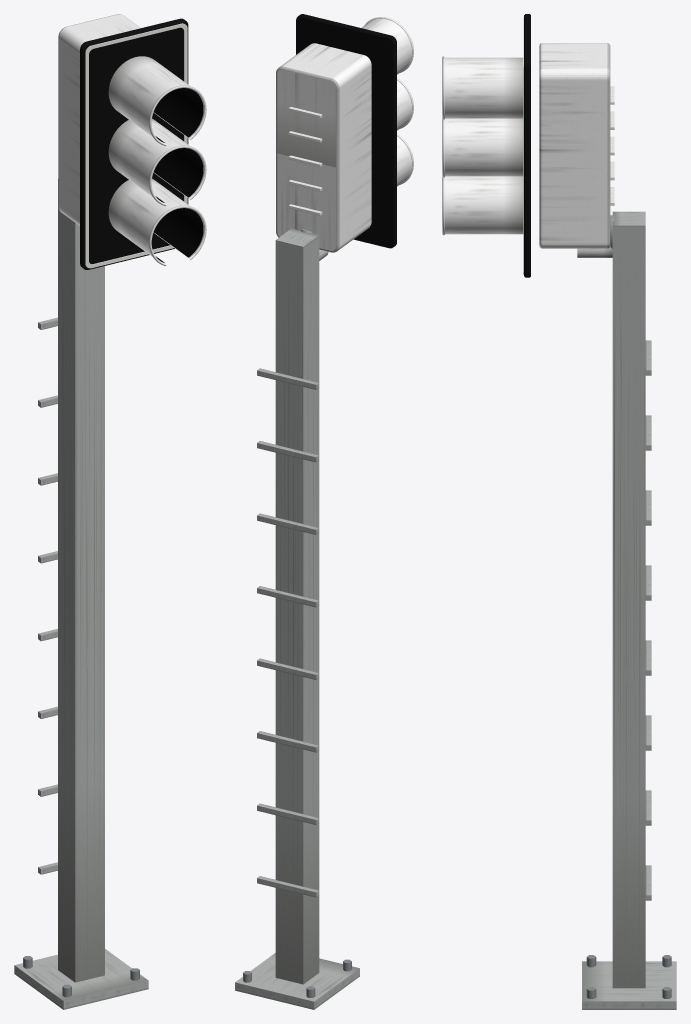
3 views of the same model, side by side, from view 1: azimuth 30°, elevation 25°; view 2: azimuth 150°, elevation 25°; view 3: azimuth 270°, elevation 25° (orthographic). The views are drawn at different scales.
Parts seen in each view (by area): view 1: jp-rail-3; view 2: jp-rail-3; view 3: jp-rail-3.
Part boxes in pixels (box(x1,y1,x2,y2)): jp-rail-3: box(14, 14, 206, 1009); jp-rail-3: box(235, 14, 413, 1009); jp-rail-3: box(442, 14, 676, 1009).
Bounding box in the file's own units: 0.5 × 4.45 × 0.9902.
16 materials, 3 textured.
